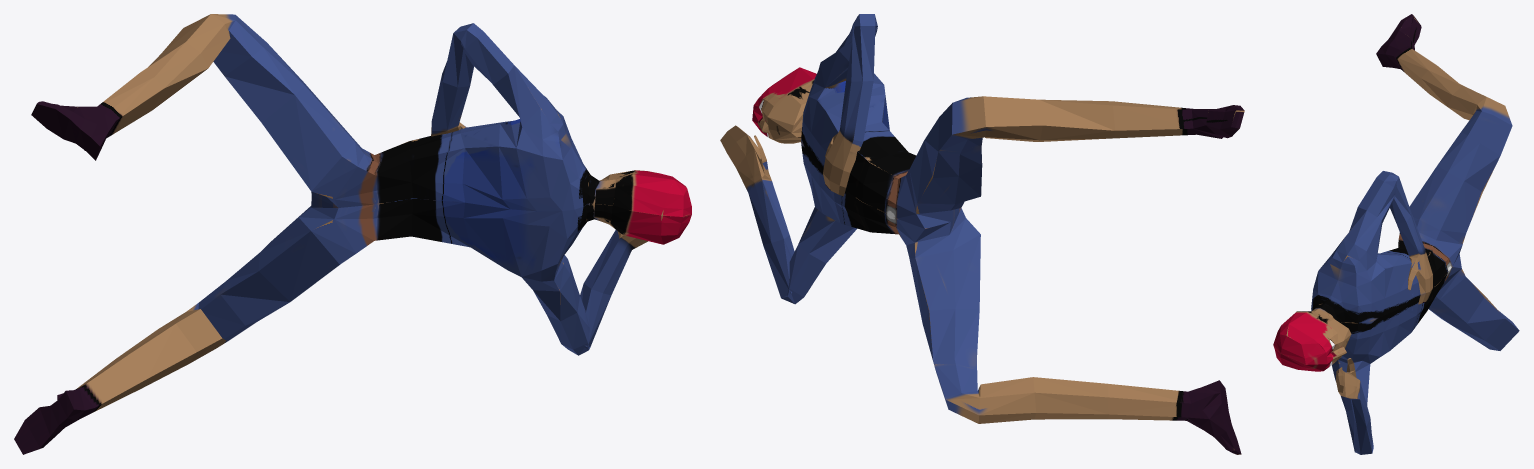
Rendered from mirrorman_000028.obj.
3 renders of one model, left to right at view 1: azimuth 30°, elevation 25°; view 2: azimuth 150°, elevation 25°; view 3: azimuth 270°, elevation 25°, orthographic. The views are drawn at different scales.
Visible parts, largest first — view 1: mirrorman_Cube.001_Material.001; view 2: mirrorman_Cube.001_Material.001; view 3: mirrorman_Cube.001_Material.001.
Boxes of the visible parts, <box> form: mirrorman_Cube.001_Material.001: <box>14,14,691,454</box>; mirrorman_Cube.001_Material.001: <box>720,14,1244,454</box>; mirrorman_Cube.001_Material.001: <box>1273,14,1519,454</box>.
Bounding box in the file's own units: 1.63 × 0.9143 × 0.7761.
1 material, 1 textured.
